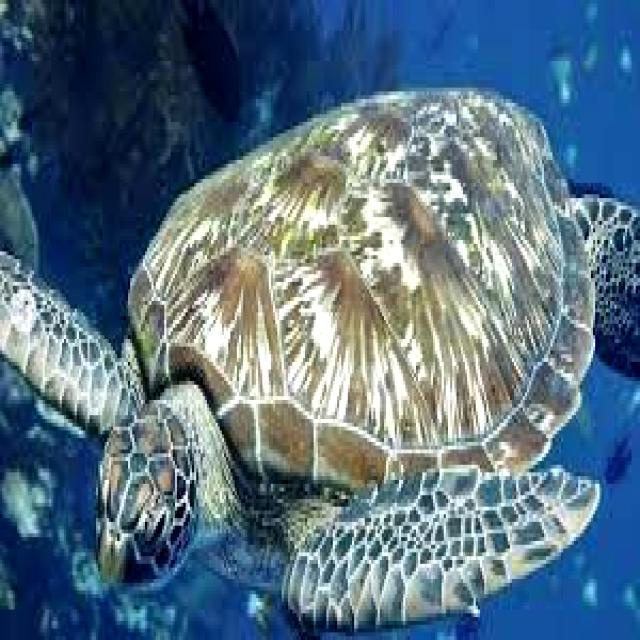Sea turtle: (4, 84, 640, 640)
